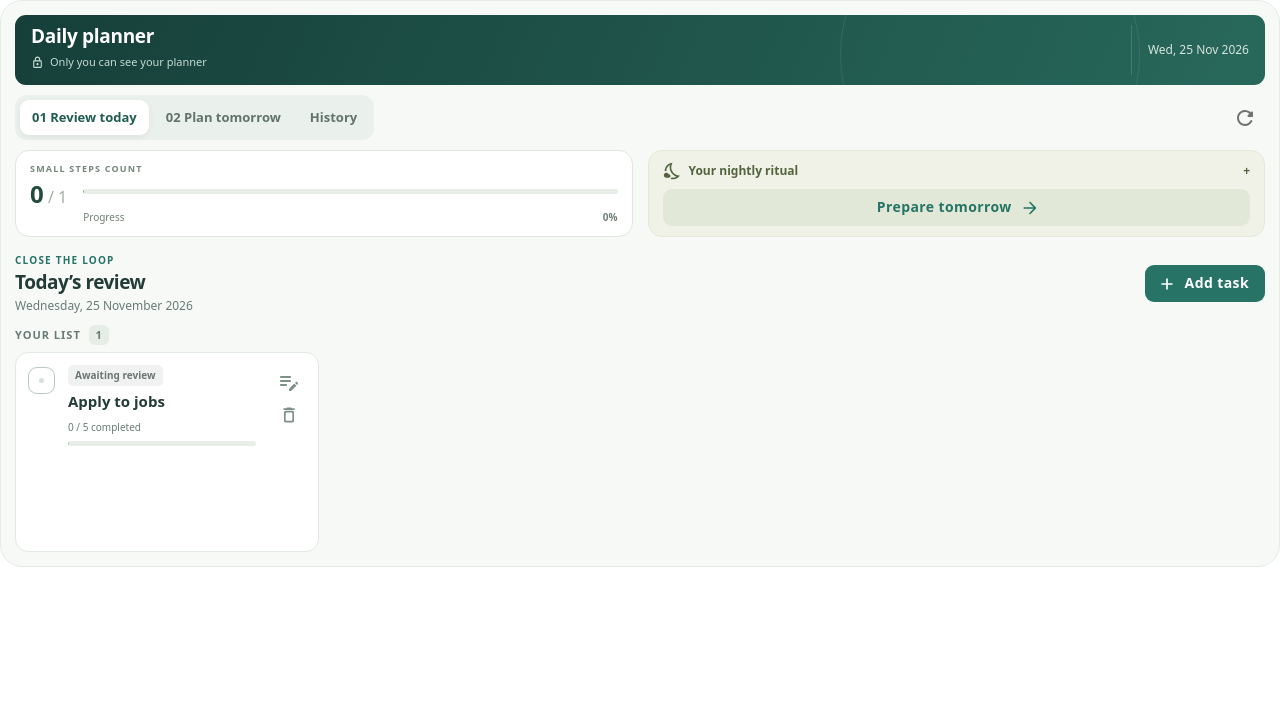
Test: prepares tomorrow through the carry-forward API and loads tomorrow
This screenshot has width=1280, height=720.
Expected: the heading "Apply to jobs" is shown, 68,391 -> 165,411
Click the button "Prepare tomorrow" at (956, 208), box 662,189 -> 1250,226
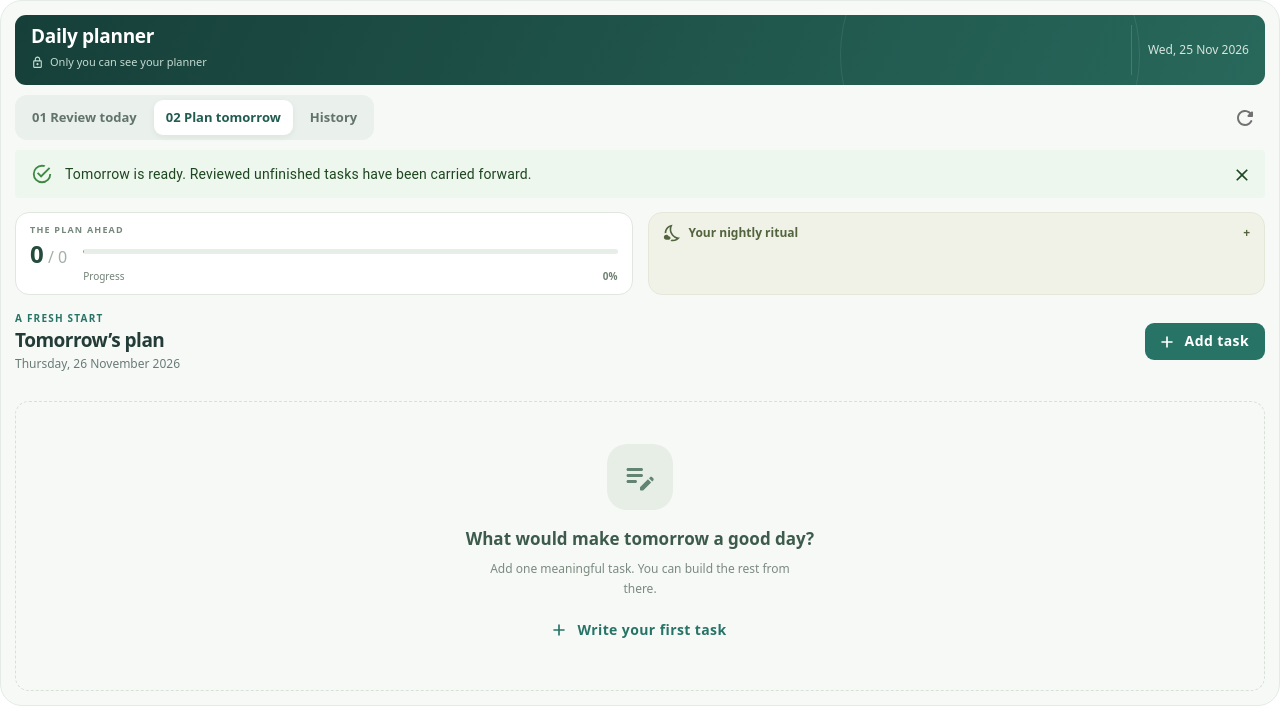
Expected: the heading "Tomorrow’s plan" is shown, 15,329 -> 180,352
